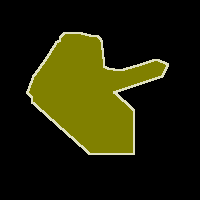tie: (27, 32, 168, 154)
